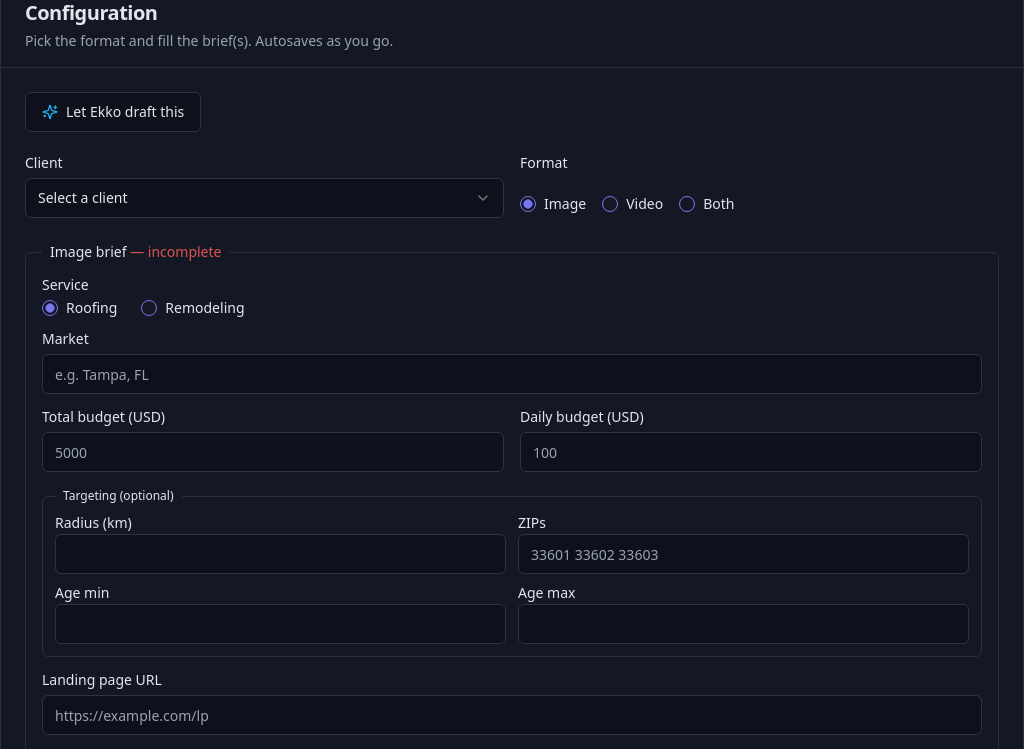
StageConfiguration - autosave indicator › renders the autosave error when PATCH fails
Step 1. Click the radio button named "Both" next to "Both" → (687, 204), box [679,196,695,212]
Wait 1100 ms
(page scrolled)
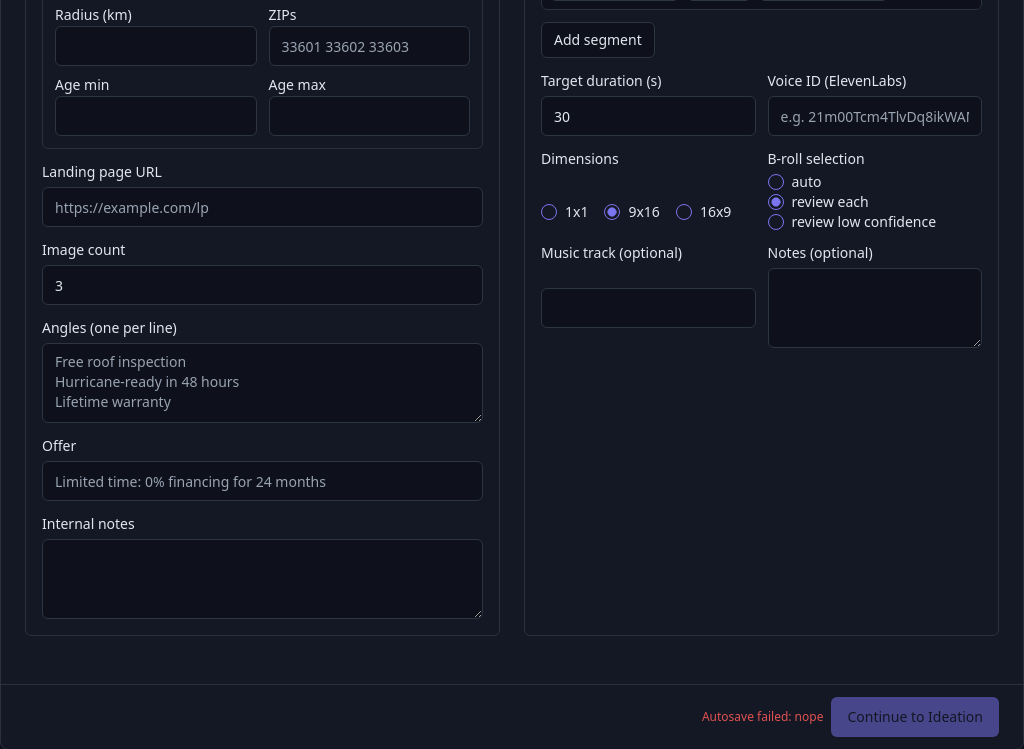
Expected: the text "Autosave failed: nope" is shown, [702,709,823,725]
